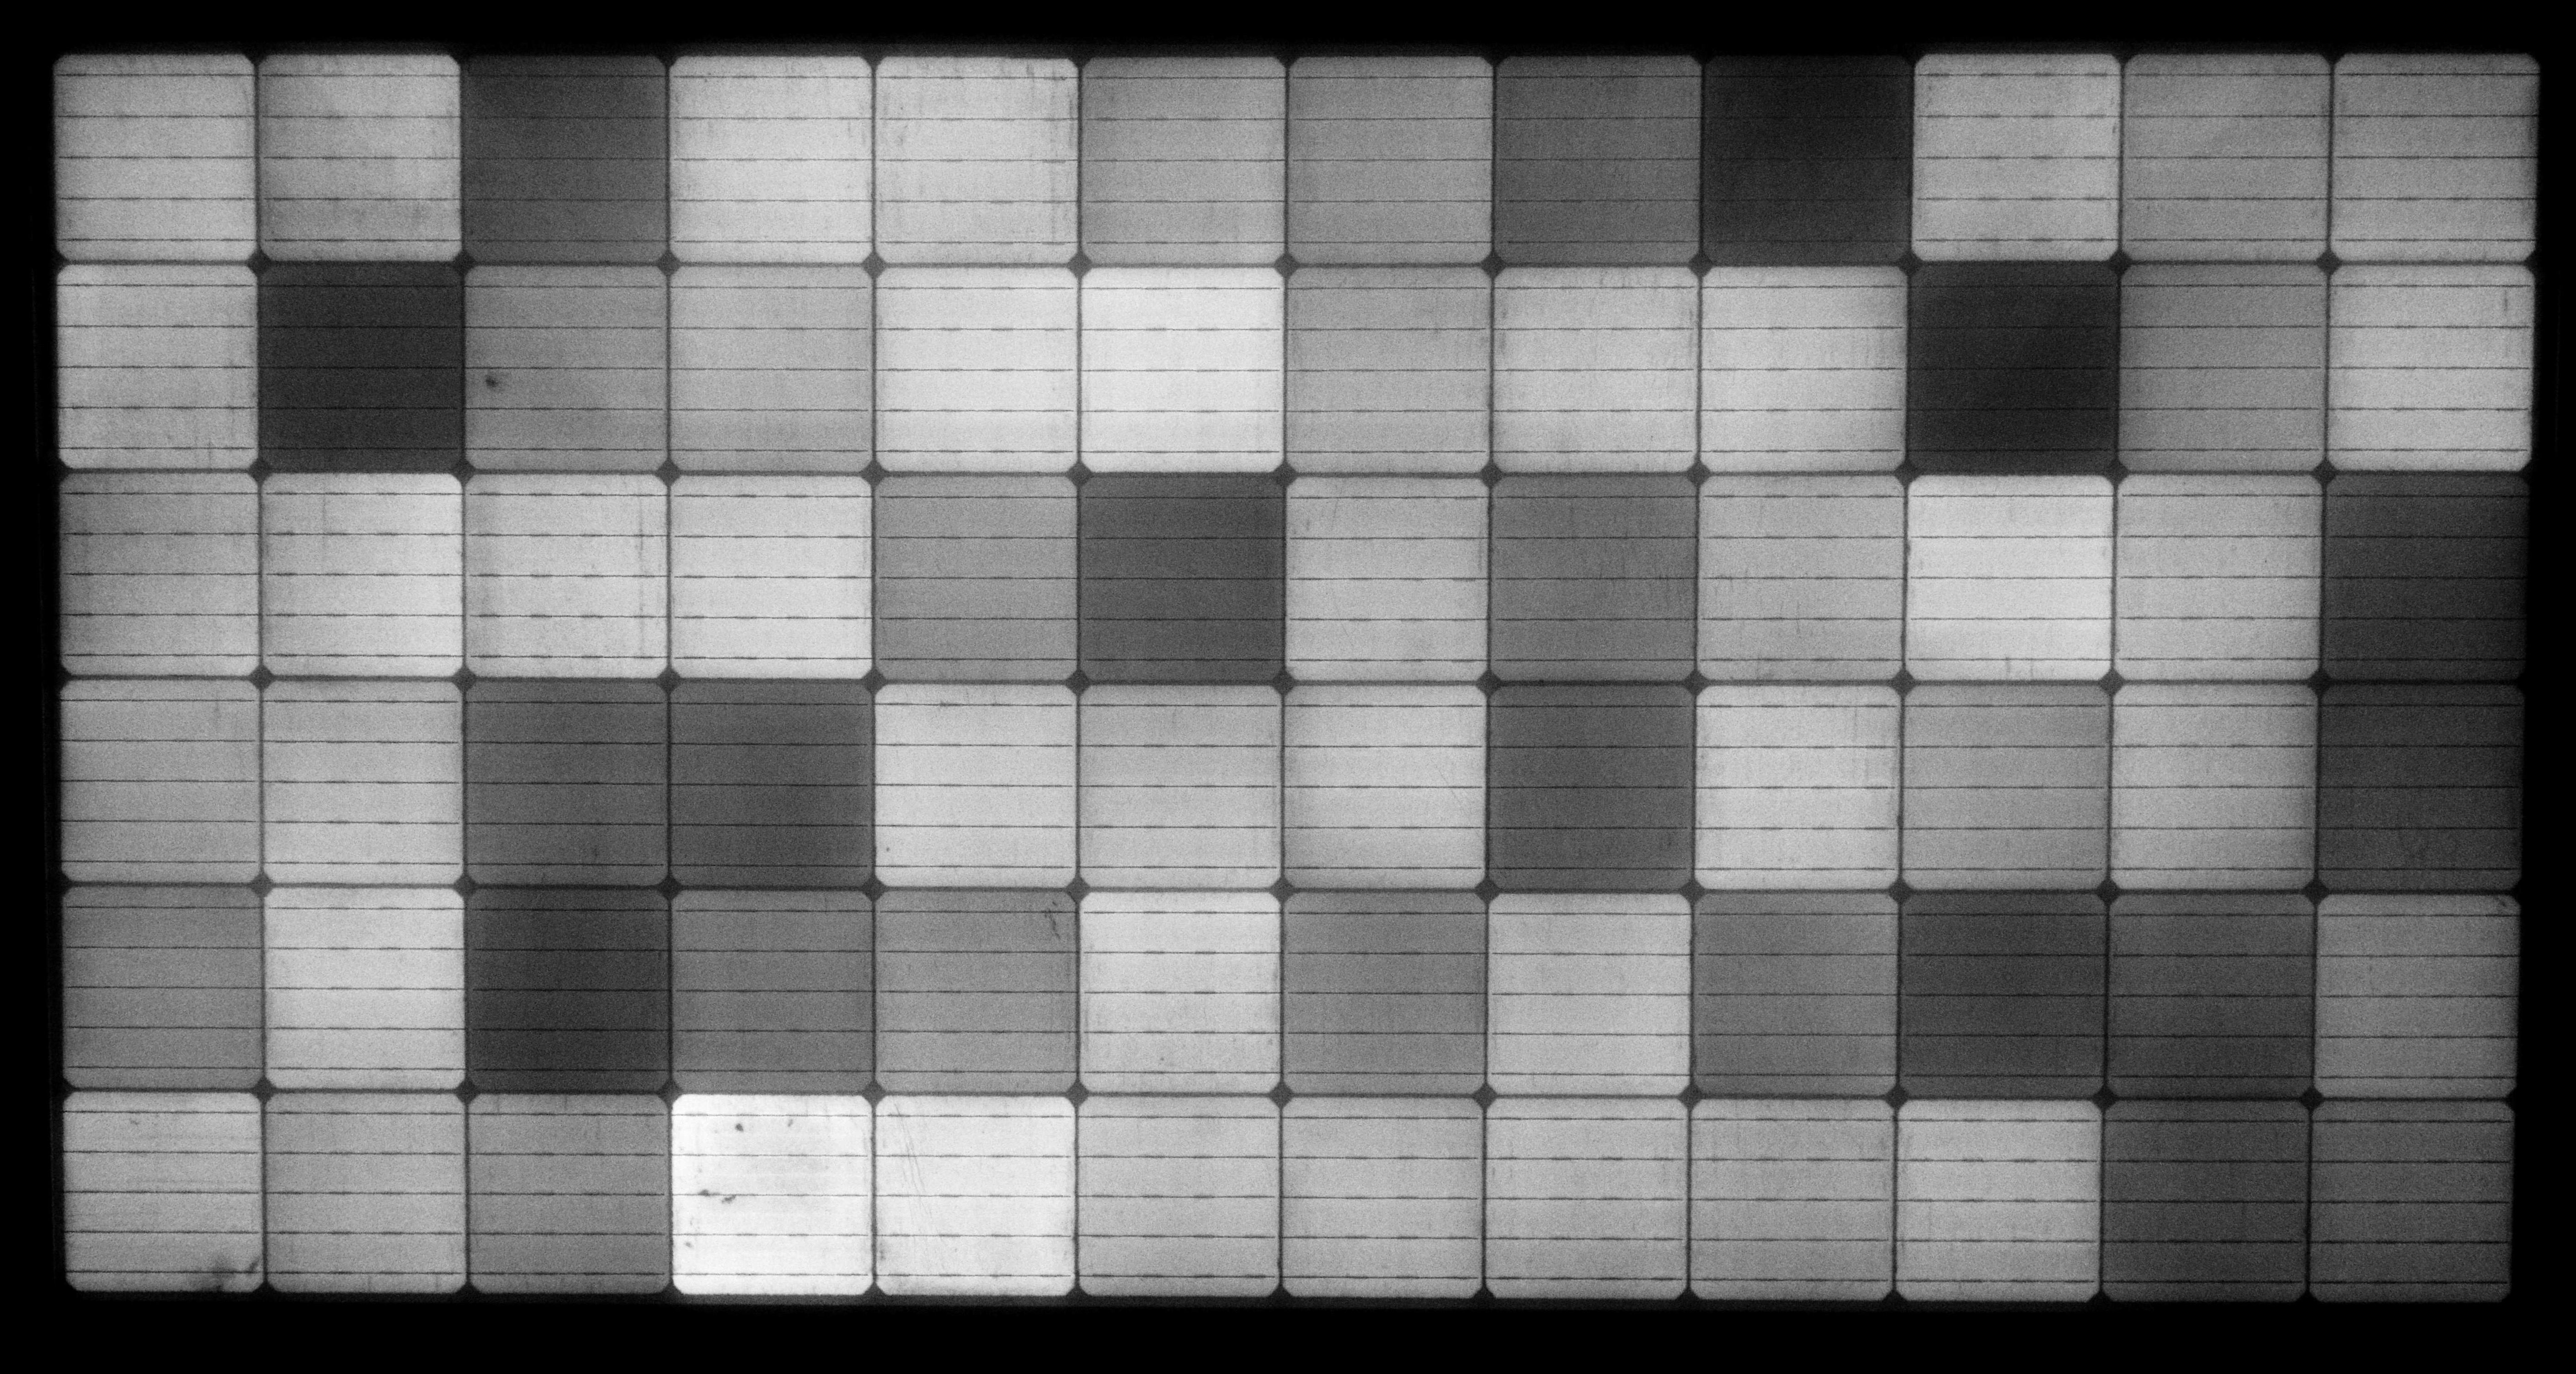5,11: (2314, 39, 2552, 272), (46, 1071, 285, 1304), (41, 39, 273, 276)
